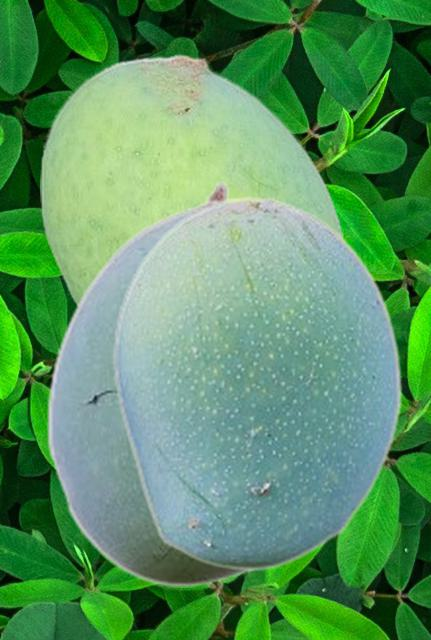green_mango: (111, 195, 402, 571), (46, 181, 259, 586), (40, 53, 347, 306)
